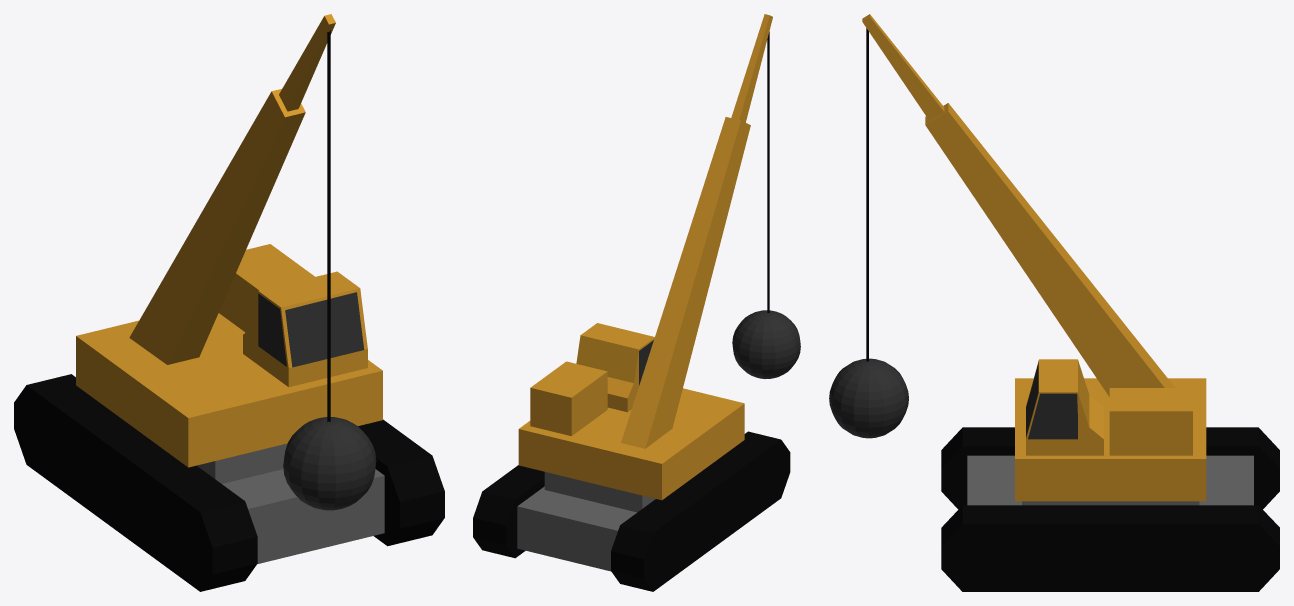
Rendered from Crane.fbx.
The picture shows the model from 3 angles, left to right: view 1: azimuth 30°, elevation 25°; view 2: azimuth 150°, elevation 25°; view 3: azimuth 270°, elevation 25°; orthographic projection. The views are drawn at different scales.
Parts seen in each view (by area): view 1: Cube.004, Cube.001, Cube.005, Cube, Sphere, Cube.007, Cylinder; view 2: Cube.004, Cube.001, Cube.005, Cube, Sphere, Cube.007, Cylinder; view 3: Cube.001, Cube.004, Cube.005, Cube, Sphere, Cube.007, Cylinder.
Part boxes in pixels (x1,y1,x2,y2): Cube.004: (76, 244, 382, 467); Cube.001: (14, 374, 444, 591); Cube.005: (129, 89, 305, 364); Cube: (197, 443, 384, 563); Sphere: (283, 417, 376, 510); Cube.007: (279, 14, 335, 111); Cylinder: (327, 30, 330, 422); Cube.004: (518, 323, 744, 500); Cube.001: (473, 431, 790, 591); Cube.005: (621, 117, 750, 448); Cube: (517, 472, 655, 571); Sphere: (732, 310, 800, 378); Cube.007: (731, 14, 772, 122); Cylinder: (767, 31, 769, 312); Cube.001: (941, 427, 1279, 591); Cube.004: (1015, 359, 1206, 501); Cube.005: (925, 103, 1174, 396); Cube: (967, 455, 1253, 505); Sphere: (829, 358, 908, 438); Cube.007: (862, 14, 944, 120); Cylinder: (866, 28, 868, 361).
Bounding box in the file's own units: 3.05 × 7.51 × 6.01.
